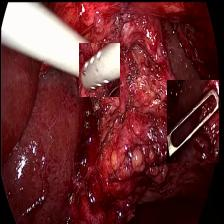Grasper: (166, 79, 218, 162)
Irrigator: (78, 42, 119, 96)
